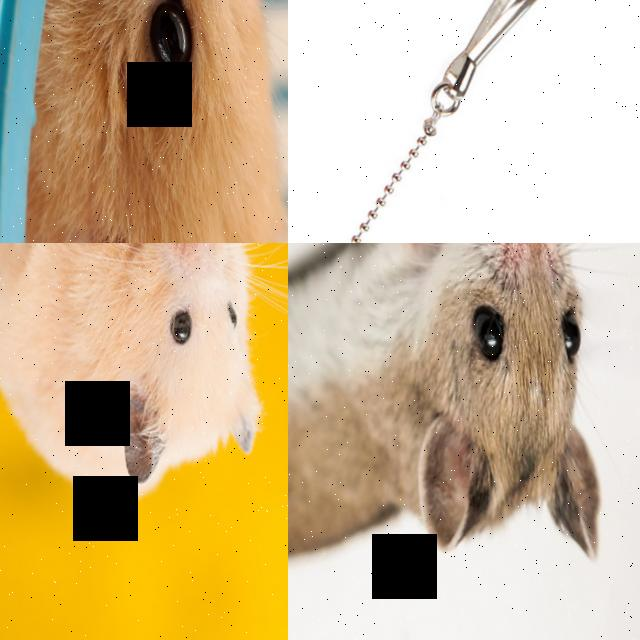hamster: (288, 243, 635, 624), (0, 243, 287, 518), (0, 0, 288, 243)
